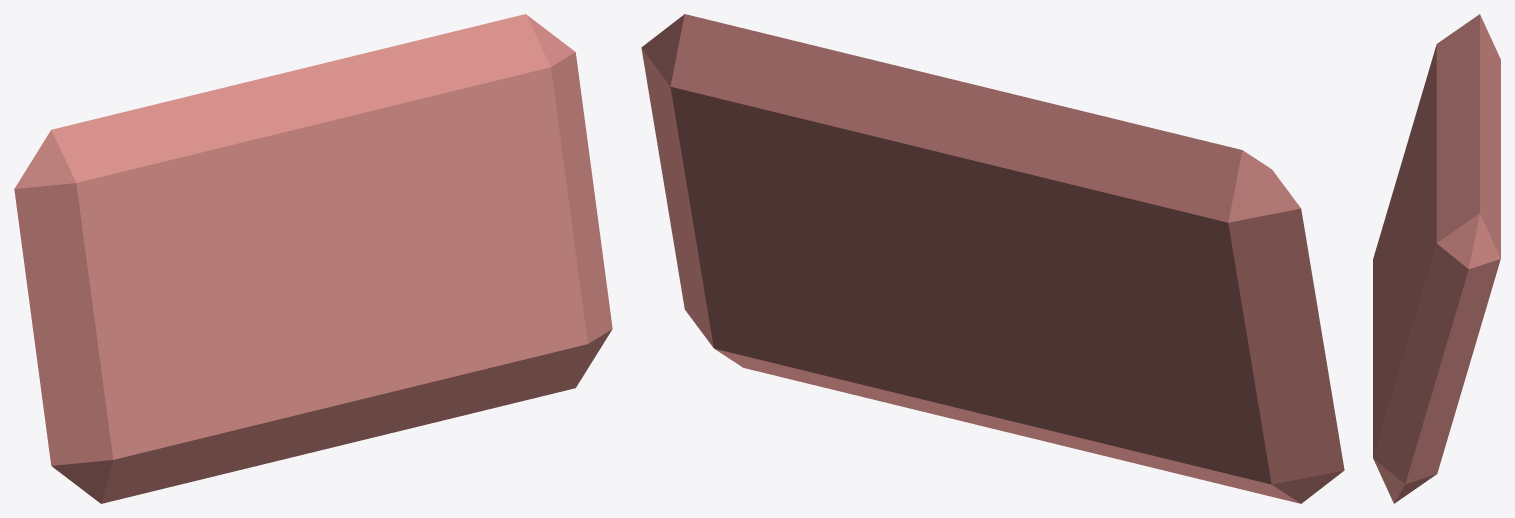
File: pillowLong.glb
3 views of the same model, side by side, from view 1: azimuth 30°, elevation 25°; view 2: azimuth 150°, elevation 25°; view 3: azimuth 270°, elevation 25° (orthographic). The views are drawn at different scales.
Visible parts, largest first — view 1: pillowLong; view 2: pillowLong; view 3: pillowLong.
Part boxes in pixels (<box>): pillowLong: <box>14,14,612,503</box>; pillowLong: <box>641,14,1344,503</box>; pillowLong: <box>1373,14,1500,503</box>.
Size of the model in its own units: 0.3866 by 0.2222 by 0.0885.
